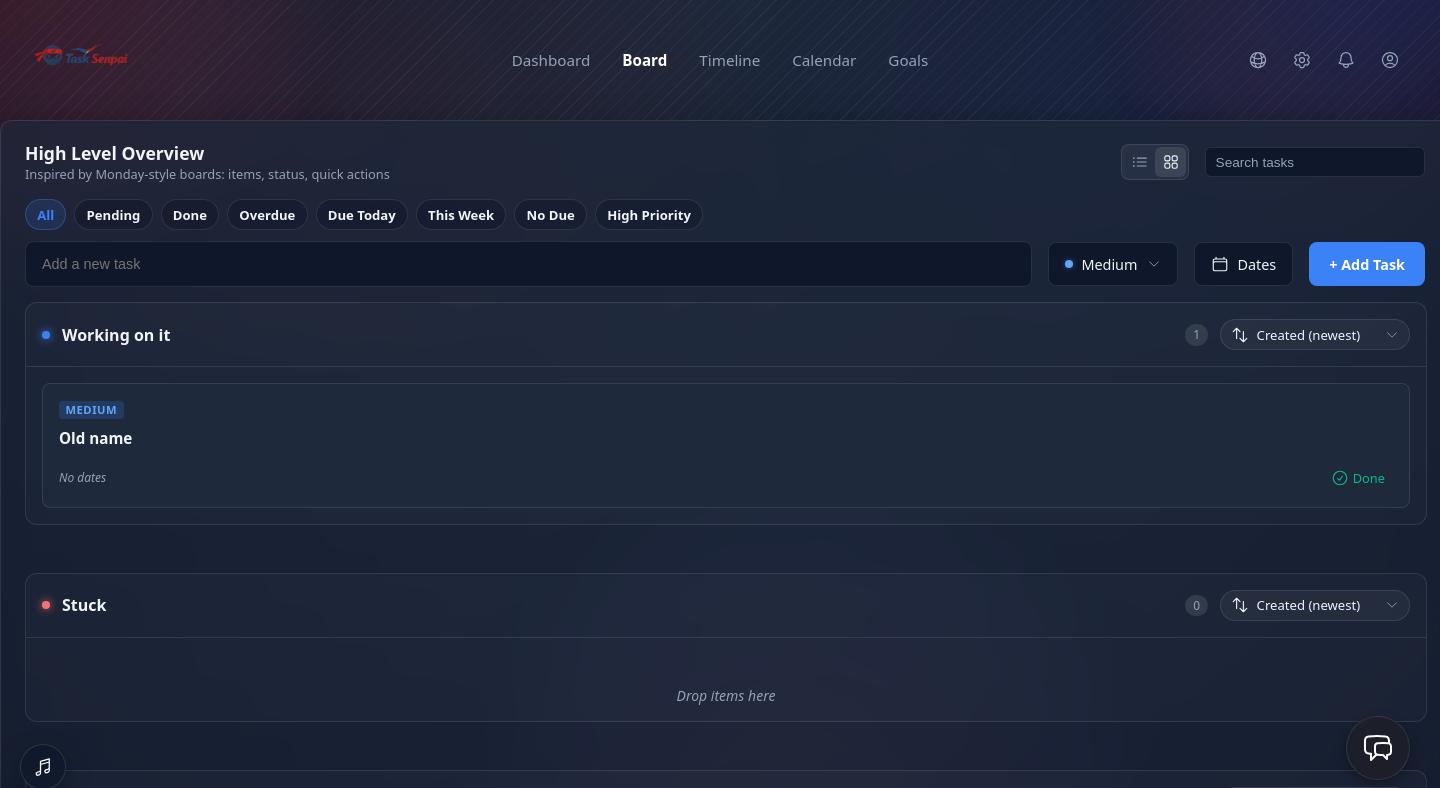
Test: Task edit and delete flows › edits a task name from the kanban card modal
The width and height of the screenshot is (1440, 788).
Step 1. Click the heading "Old name" → point(96, 438), box [59, 428, 132, 448]
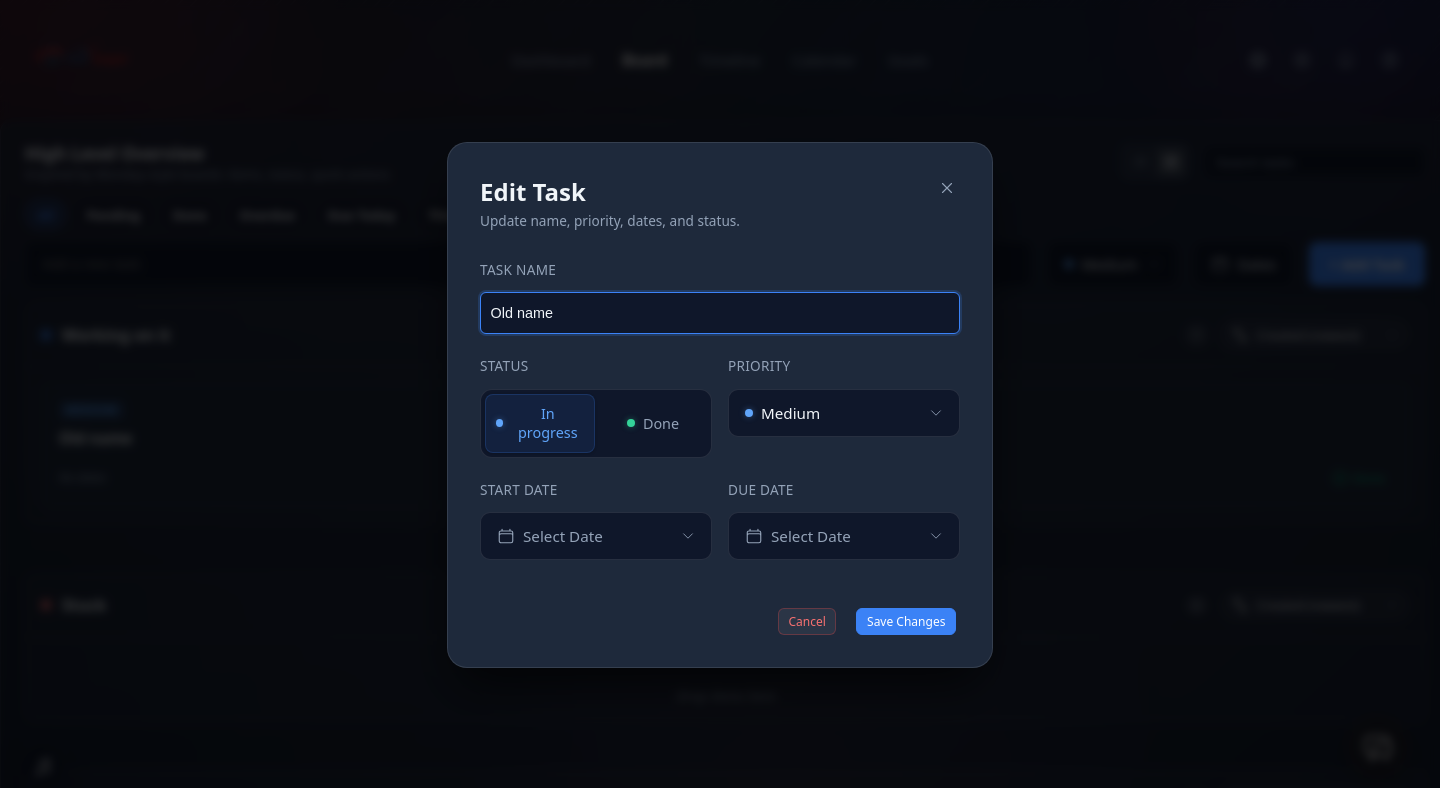
Step 2. Replace the text in the field showing "Old name" with "New name" → point(720, 314), box [480, 292, 960, 334]
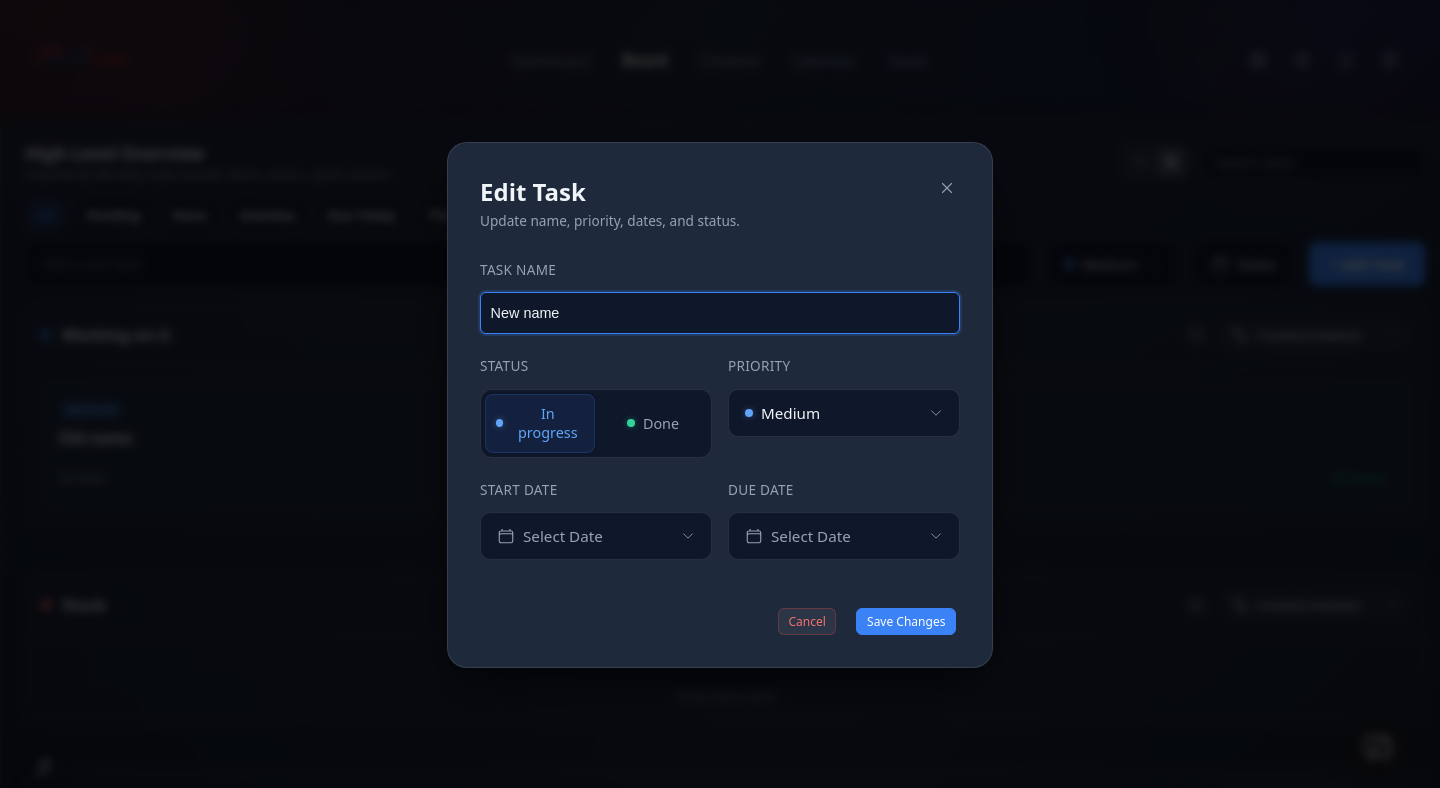
Step 3. Click the button "Save Changes" → point(906, 621), box [856, 608, 956, 635]
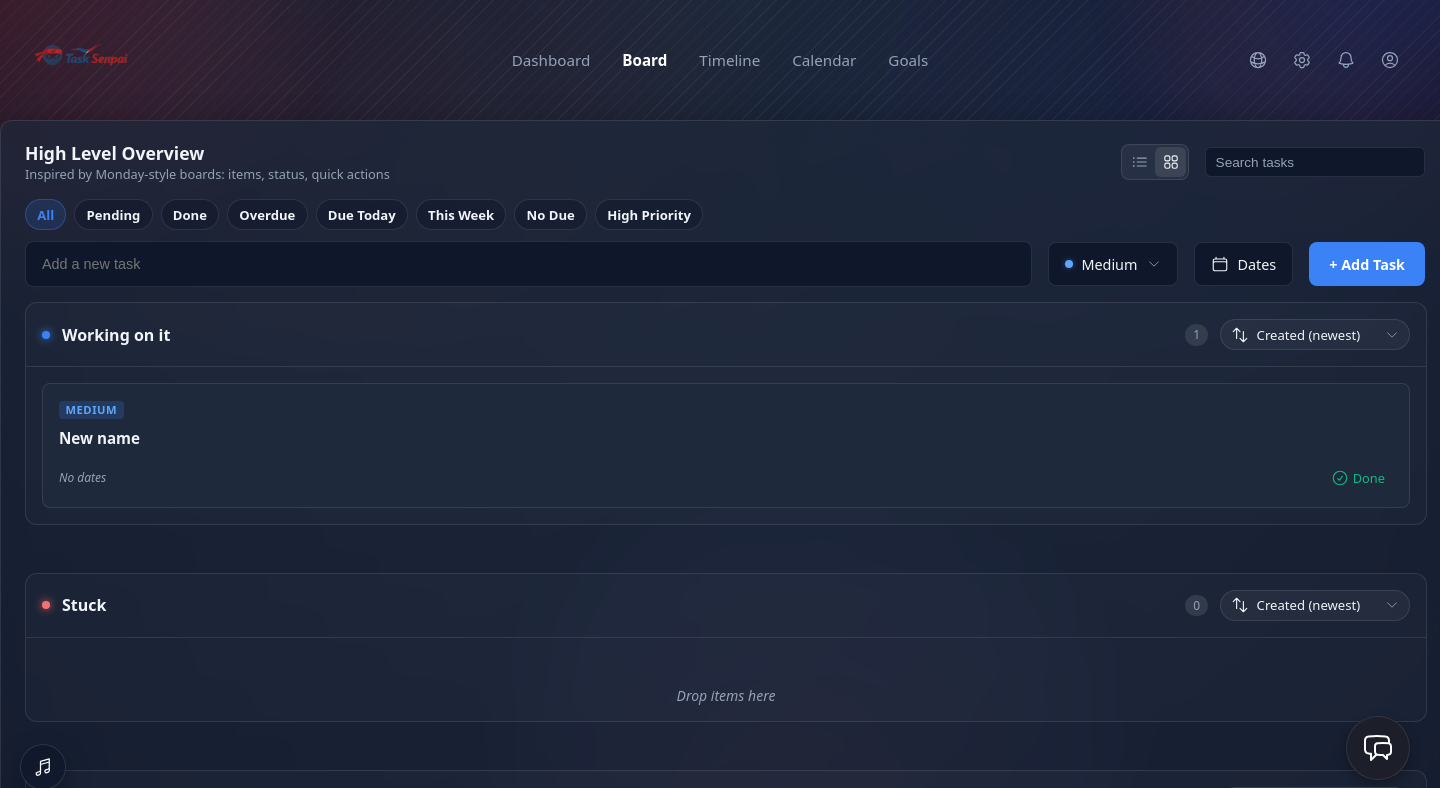
Expected: the heading "New name" is shown, [59, 428, 140, 448]
